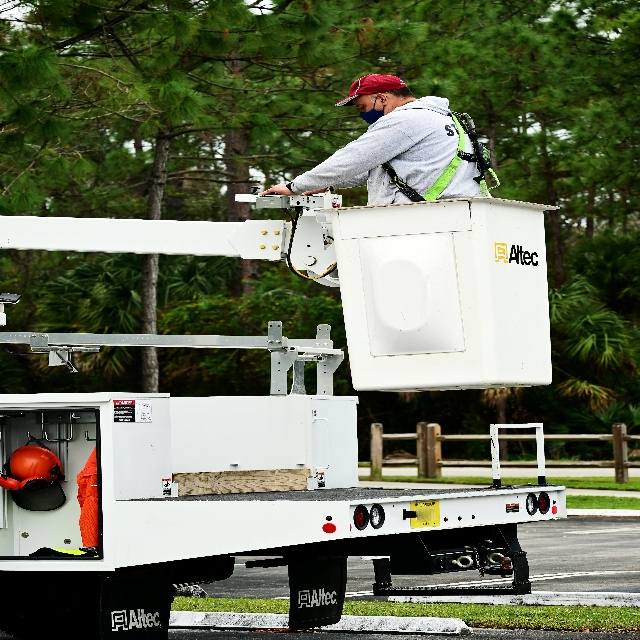Mascara: (359, 93, 387, 125)
Sin_guantes: (258, 178, 298, 195), (300, 186, 327, 195)
